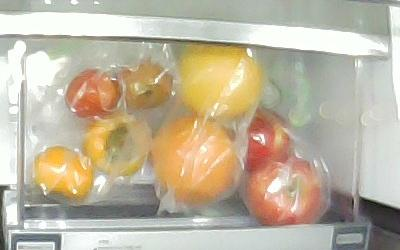apple_vinyl: (245, 158, 327, 225), (236, 106, 292, 172)
grapefruit_vinyl: (152, 115, 238, 206), (177, 44, 264, 120)
persimmon_vinyl: (84, 112, 152, 176), (33, 146, 93, 201)
prune_vinyl: (116, 56, 174, 109), (65, 69, 121, 118)
